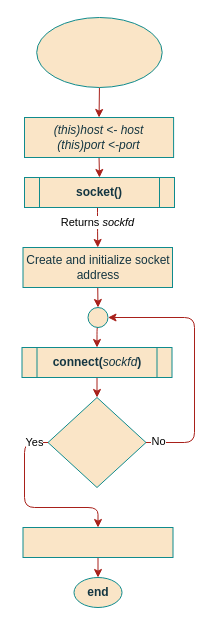
The diagram is 220 pixels wide and 625 high, and some of its shapes have lost their labels. The shapes that lost their labels are listed below. From the top down, each one's centre as x and y in pixels, then its label:
point 99,52: CTCPclient IN: host , port
point 96,442: Connected to server?
point 97,542: status <- ONLINE
